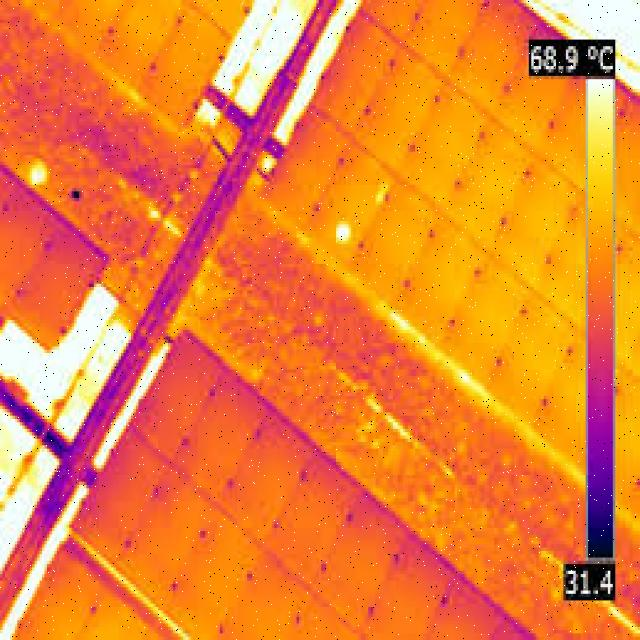Hotspot: (334, 215, 354, 248), (30, 158, 48, 188), (373, 182, 391, 208)
